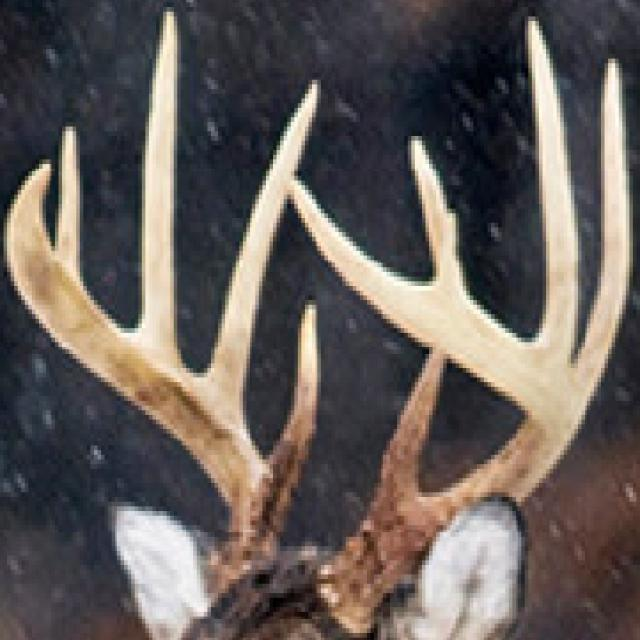L-F: (289, 177, 588, 639)
L-G1: (369, 356, 447, 507)
L-G2: (573, 56, 633, 402)
L-G3: (525, 14, 580, 365)
L-G4: (408, 133, 465, 289)
R-F: (2, 157, 287, 595)
R-G1: (264, 299, 320, 520)
R-G2: (204, 76, 322, 422)
R-G3: (137, 6, 179, 355)
R-G4: (54, 125, 82, 284)
